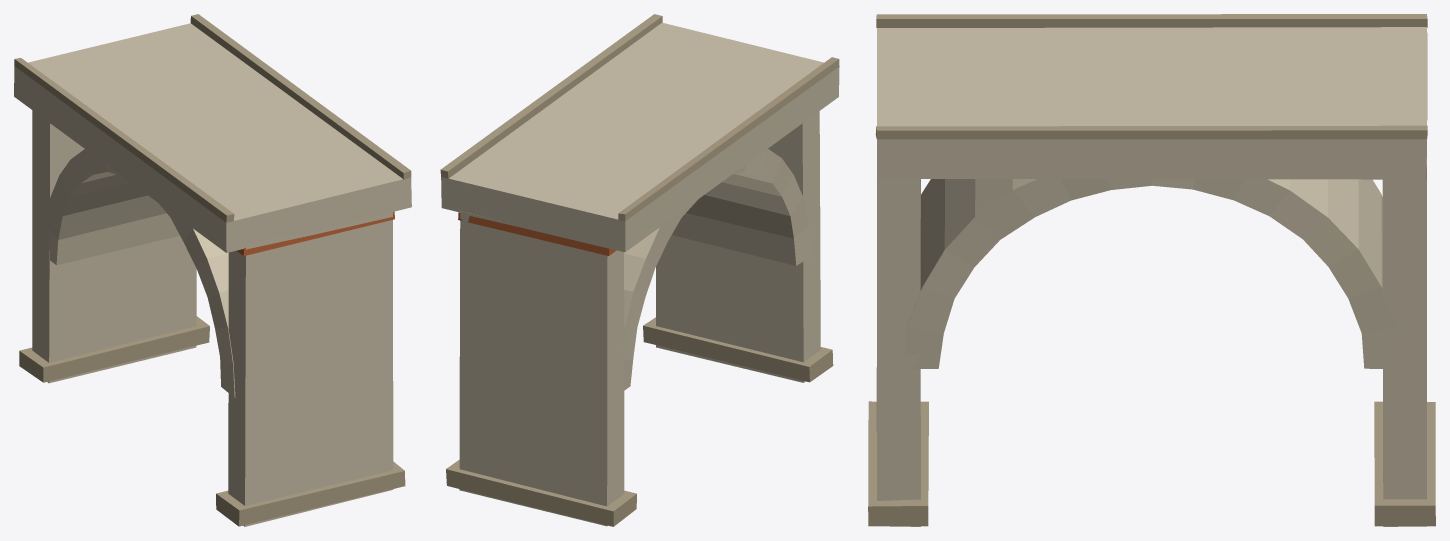
The model's file is aqueduct_seg.glb.
The picture shows the model from 3 angles, left to right: view 1: azimuth 30°, elevation 25°; view 2: azimuth 150°, elevation 25°; view 3: azimuth 270°, elevation 25°; orthographic projection. The views are drawn at different scales.
Parts seen in each view (by area): view 1: aqueduct_seg; view 2: aqueduct_seg; view 3: aqueduct_seg.
Boxes of the visible parts, x1,y1,x2,y2 form: aqueduct_seg: (14, 14, 411, 526); aqueduct_seg: (440, 14, 839, 526); aqueduct_seg: (868, 14, 1435, 526).
Bounding box in the file's own units: 20.13 × 32.81 × 41.27.
